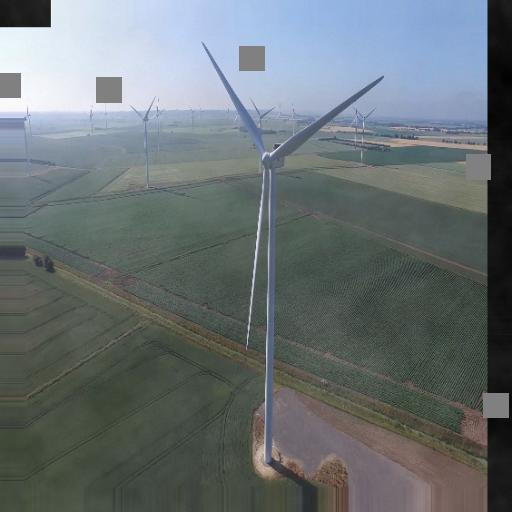wind turbine: (200, 39, 385, 463), (128, 93, 155, 189), (352, 109, 376, 159)
